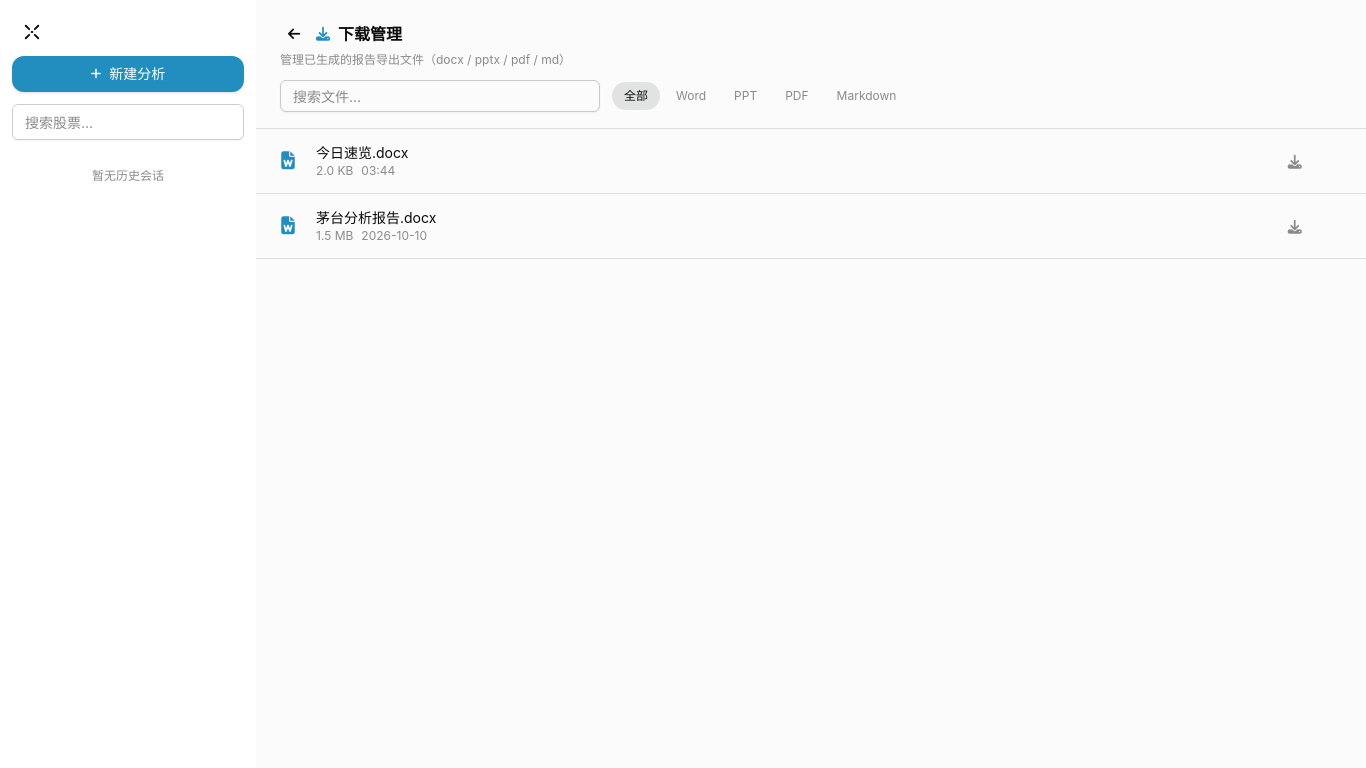
Test case: 下载中心页面（add-download-center Task 2） › 列表有文件时标题栏返回按钮同样可回会话页
Click the button with test id "downloads-back" at (294, 34), box [280,20,308,48]
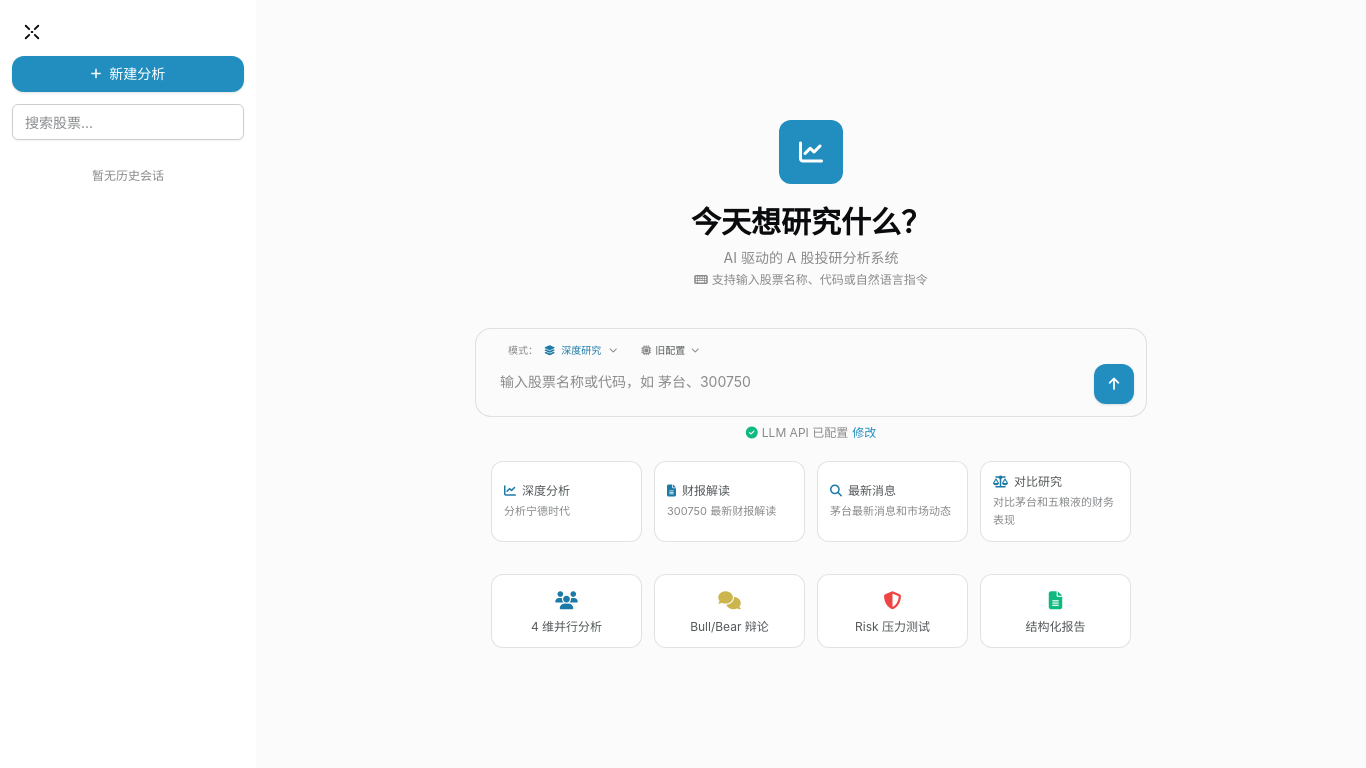
Now the heading "今天想研究什么？" is shown, box [691,204,931,240]
